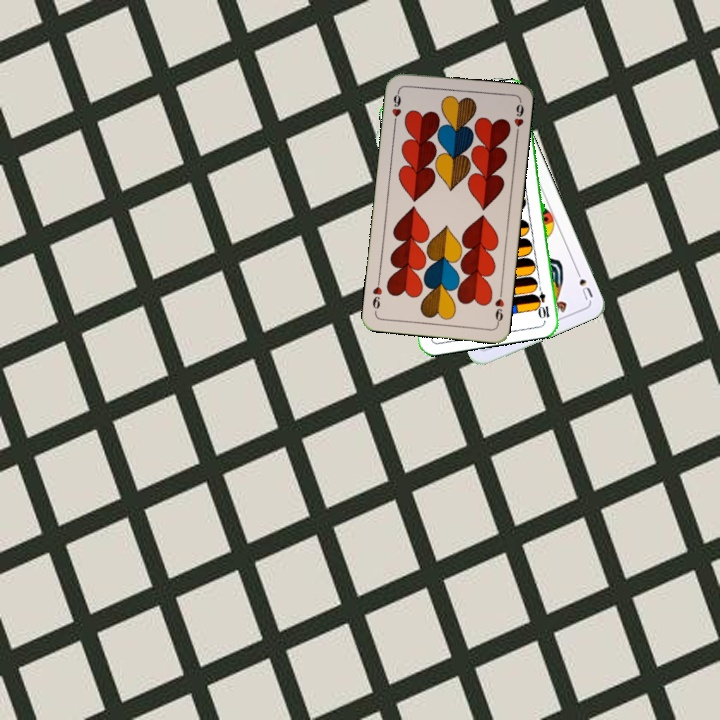E10: (533, 281, 552, 321)
H9: (388, 86, 404, 127), (491, 287, 507, 327)
SU: (571, 264, 596, 303)
